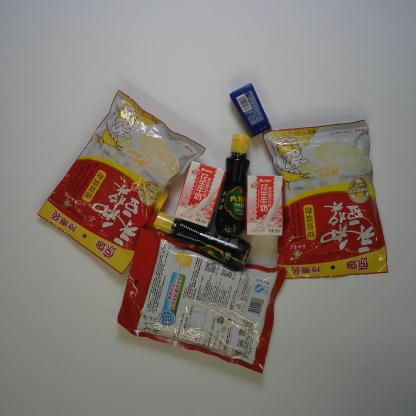Instant Drink: (35, 88, 208, 278), (115, 226, 288, 373), (260, 118, 390, 281)
Milk: (170, 158, 227, 230), (242, 171, 286, 240)
Personal Hygiene: (229, 82, 272, 139)
Seasoner: (151, 212, 253, 269), (214, 135, 252, 237)
